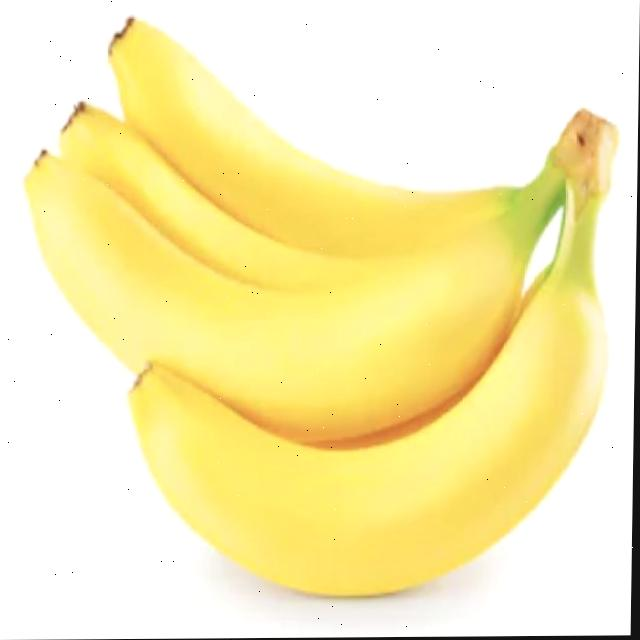banana: (29, 59, 616, 620)
